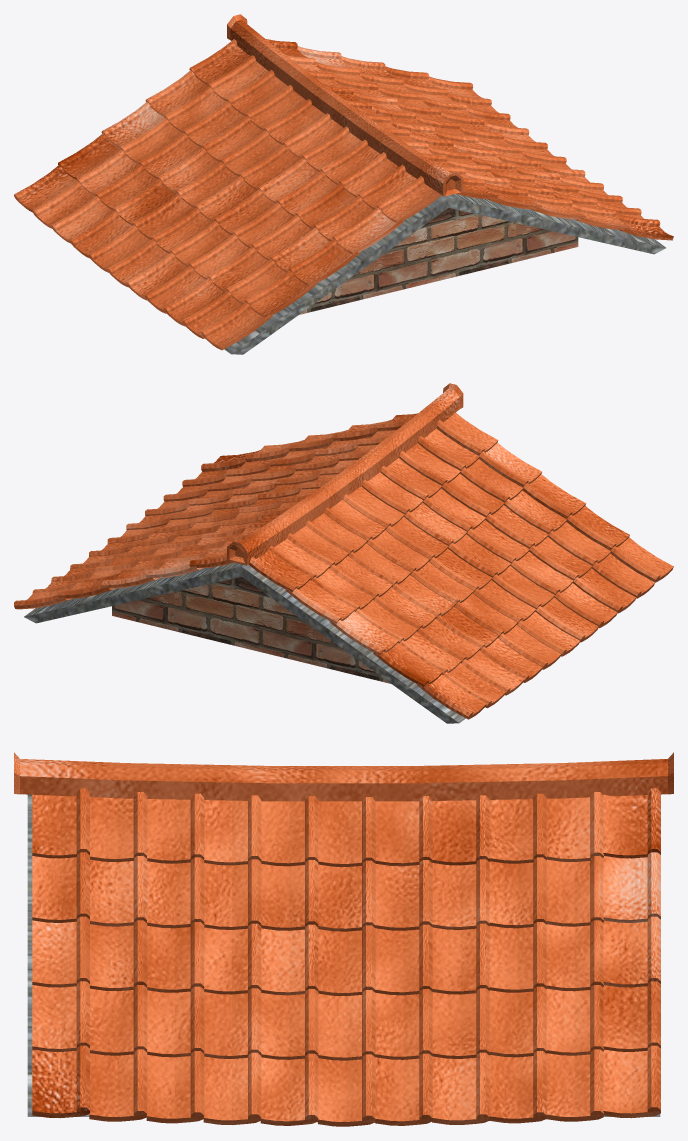
Rendered from roof_brick_01.FBX.
The picture shows the model from 3 angles, top to bottom: view 1: azimuth 30°, elevation 25°; view 2: azimuth 150°, elevation 25°; view 3: azimuth 270°, elevation 25°; orthographic projection. The views are drawn at different scales.
Visible parts, largest first — view 1: Box031; view 2: Box031; view 3: Box031.
Part boxes in pixels (left/top/right/bottom): Box031: left=14, top=14, right=673, bottom=354; Box031: left=14, top=383, right=673, bottom=723; Box031: left=14, top=752, right=673, bottom=1126.
Bounding box in the file's own units: 216 × 60.87 × 177.
